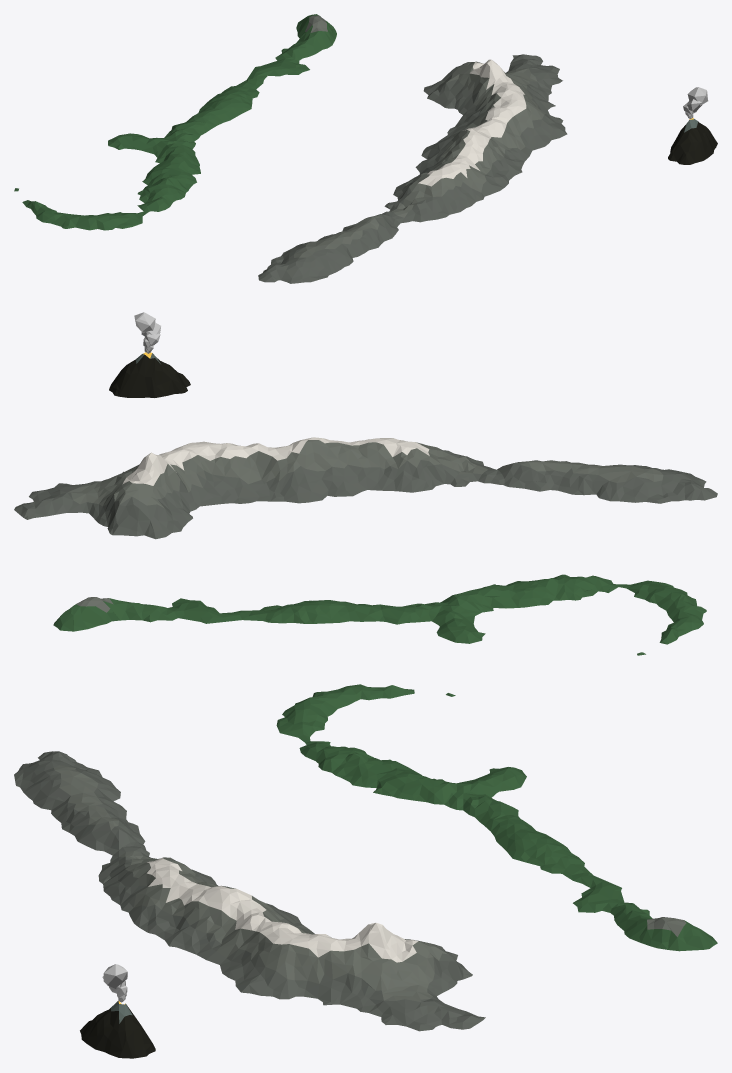
The model's file is mountain_terrain.glb.
The picture shows the model from 3 angles, top to bottom: view 1: azimuth 30°, elevation 25°; view 2: azimuth 150°, elevation 25°; view 3: azimuth 270°, elevation 25°; orthographic projection. The views are drawn at different scales.
Visible parts, largest first — view 1: Mountains.001, Mount Dragun.001, Smoke; view 2: Mountains.001, Mount Dragun.001, Smoke; view 3: Mountains.001, Mount Dragun.001, Smoke.
Part boxes in pixels (x1=…): Mountains.001: x1=14, y1=14, x2=567, y2=283; Mount Dragun.001: x1=668, y1=118, x2=717, y2=164; Smoke: x1=683, y1=87, x2=708, y2=118; Mountains.001: x1=14, y1=437, x2=717, y2=655; Mount Dragun.001: x1=109, y1=352, x2=190, y2=397; Smoke: x1=134, y1=312, x2=160, y2=353; Mountains.001: x1=14, y1=684, x2=717, y2=1031; Mount Dragun.001: x1=80, y1=1000, x2=155, y2=1058; Smoke: x1=102, y1=964, x2=127, y2=1002.
Bounding box in the file's own units: 143 × 14.44 × 114.
